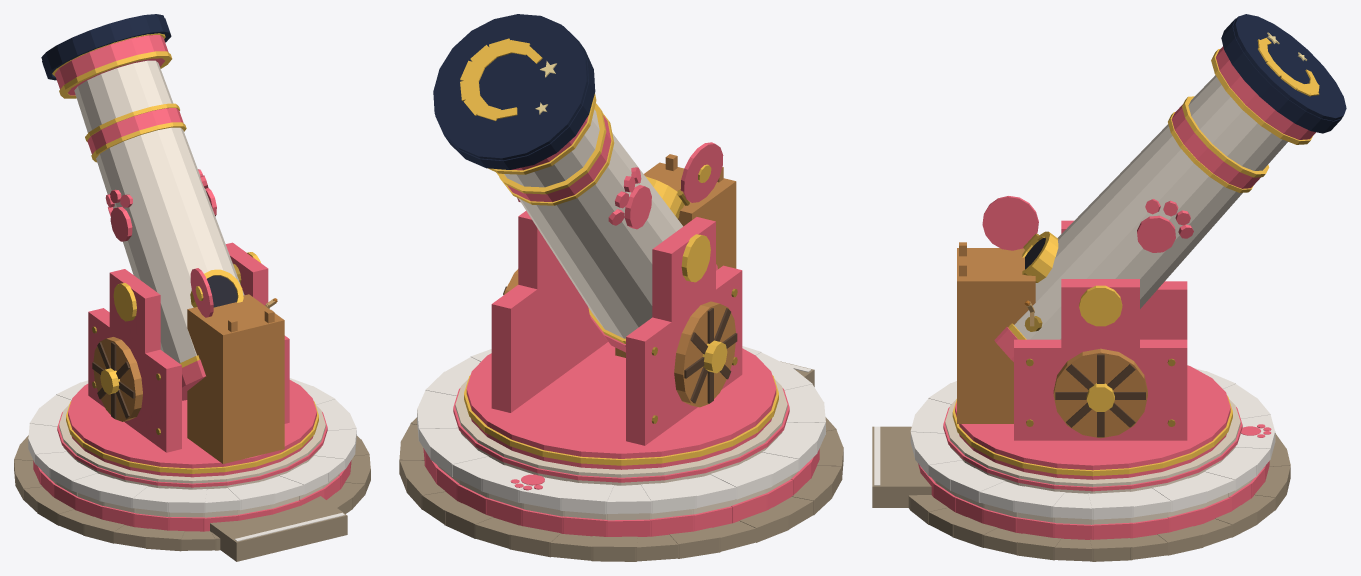
The model's file is CatCafe_Camp_Cannon_Alleyway.glb.
The picture shows the model from 3 angles, left to right: view 1: azimuth 30°, elevation 25°; view 2: azimuth 150°, elevation 25°; view 3: azimuth 270°, elevation 25°; orthographic projection. The views are drawn at different scales.
Parts seen in each view (by area): view 1: CatCafe_Camp_Cannon_Alleyway_Turret, CatCafe_Camp_Cannon_Alleyway, CatCafe_Camp_Cannon_Alleyway_Climb, CatCafe_Camp_Cannon_Alleyway_MoonCover; view 2: CatCafe_Camp_Cannon_Alleyway_Turret, CatCafe_Camp_Cannon_Alleyway, CatCafe_Camp_Cannon_Alleyway_MoonCover, CatCafe_Camp_Cannon_Alleyway_Climb; view 3: CatCafe_Camp_Cannon_Alleyway_Turret, CatCafe_Camp_Cannon_Alleyway, CatCafe_Camp_Cannon_Alleyway_Climb, CatCafe_Camp_Cannon_Alleyway_MoonCover.
Boxes of the visible parts, x1,y1,x2,y2 form: CatCafe_Camp_Cannon_Alleyway_Turret: [52, 33, 318, 477]; CatCafe_Camp_Cannon_Alleyway: [14, 378, 370, 561]; CatCafe_Camp_Cannon_Alleyway_Climb: [187, 294, 284, 463]; CatCafe_Camp_Cannon_Alleyway_MoonCover: [41, 14, 171, 80]; CatCafe_Camp_Cannon_Alleyway_Turret: [464, 94, 778, 469]; CatCafe_Camp_Cannon_Alleyway: [399, 346, 843, 561]; CatCafe_Camp_Cannon_Alleyway_MoonCover: [433, 14, 595, 169]; CatCafe_Camp_Cannon_Alleyway_Climb: [615, 162, 736, 357]; CatCafe_Camp_Cannon_Alleyway_Turret: [952, 46, 1315, 479]; CatCafe_Camp_Cannon_Alleyway: [872, 368, 1290, 561]; CatCafe_Camp_Cannon_Alleyway_Climb: [957, 248, 1035, 423]; CatCafe_Camp_Cannon_Alleyway_MoonCover: [1221, 14, 1346, 133].
Size of the model in its own units: 7.54 by 9.55 by 9.03.
1 material, 1 textured.
